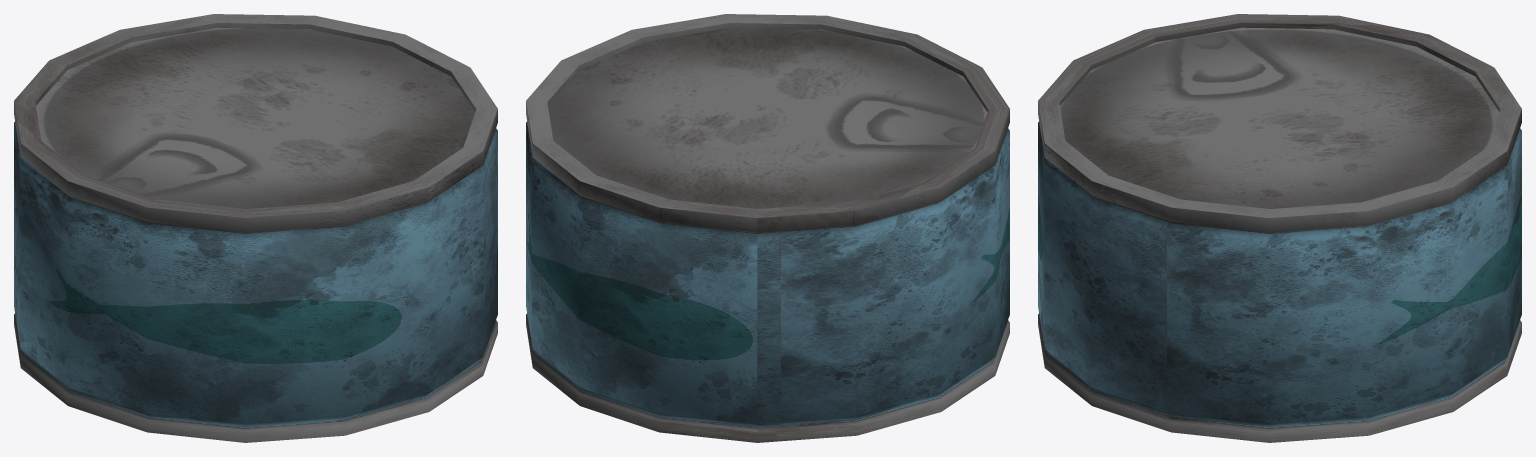
The model's file is can_Tuna.fbx.
The picture shows the model from 3 angles, left to right: view 1: azimuth 30°, elevation 25°; view 2: azimuth 150°, elevation 25°; view 3: azimuth 270°, elevation 25°; orthographic projection.
Visible parts, largest first — view 1: Cylinder002; view 2: Cylinder002; view 3: Cylinder002.
Boxes of the visible parts, left/top/right/bottom form: Cylinder002: left=14, top=14, right=497, bottom=442; Cylinder002: left=526, top=14, right=1009, bottom=442; Cylinder002: left=1038, top=14, right=1521, bottom=442.
Bounding box in the file's own units: 7.97 × 4.09 × 7.98.
